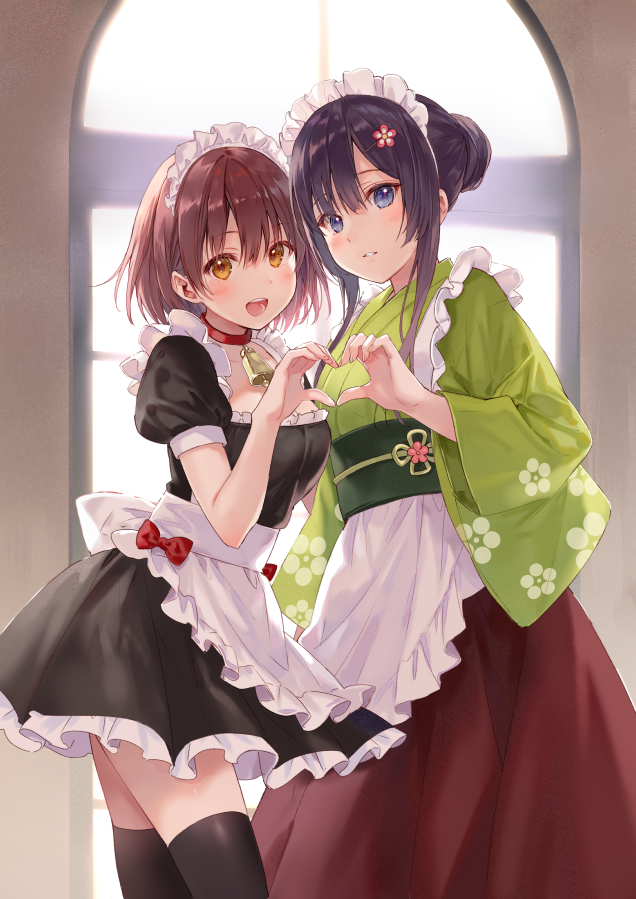纸片人正脸: (123, 129, 310, 336), (281, 77, 461, 292)
